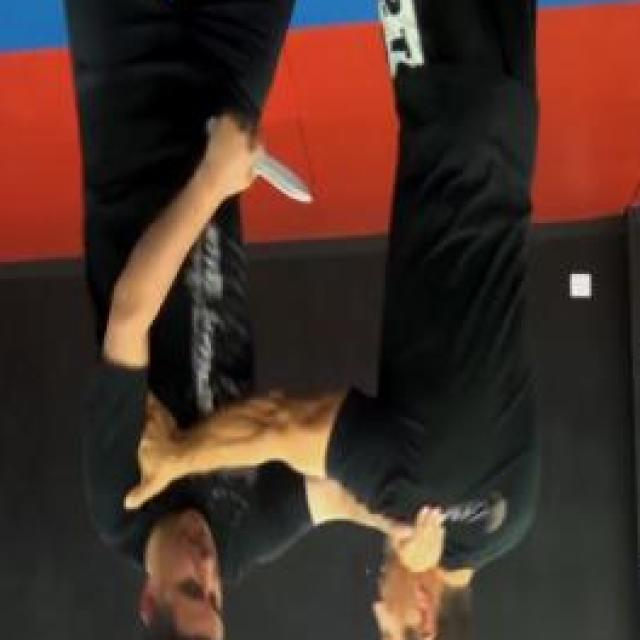knife: (204, 108, 318, 216)
